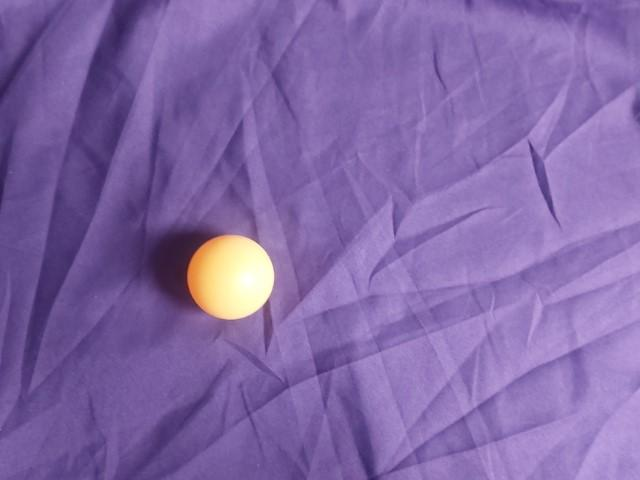oball: (357, 154, 459, 252)
